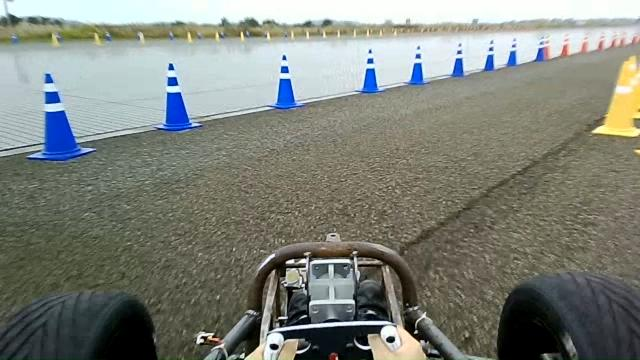blue cone: (26, 72, 96, 162), (152, 62, 202, 131), (266, 54, 305, 109), (355, 48, 385, 93), (403, 45, 430, 85), (450, 42, 466, 77), (483, 39, 496, 71)
yellow cone: (591, 54, 639, 138)
